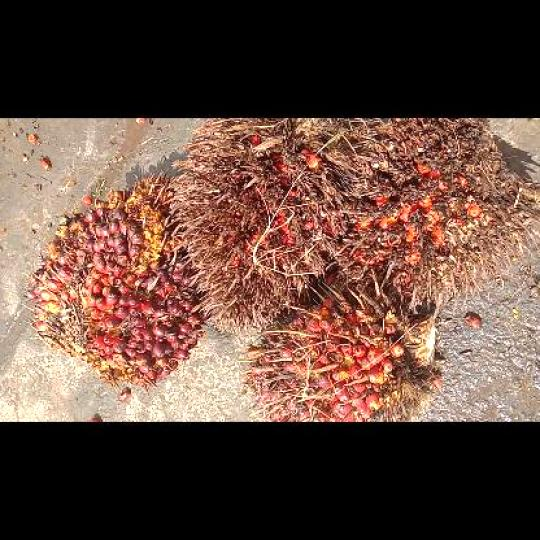masak: (24, 168, 210, 394), (239, 270, 444, 422)
terlalu masak: (162, 118, 378, 332), (328, 118, 539, 318)
